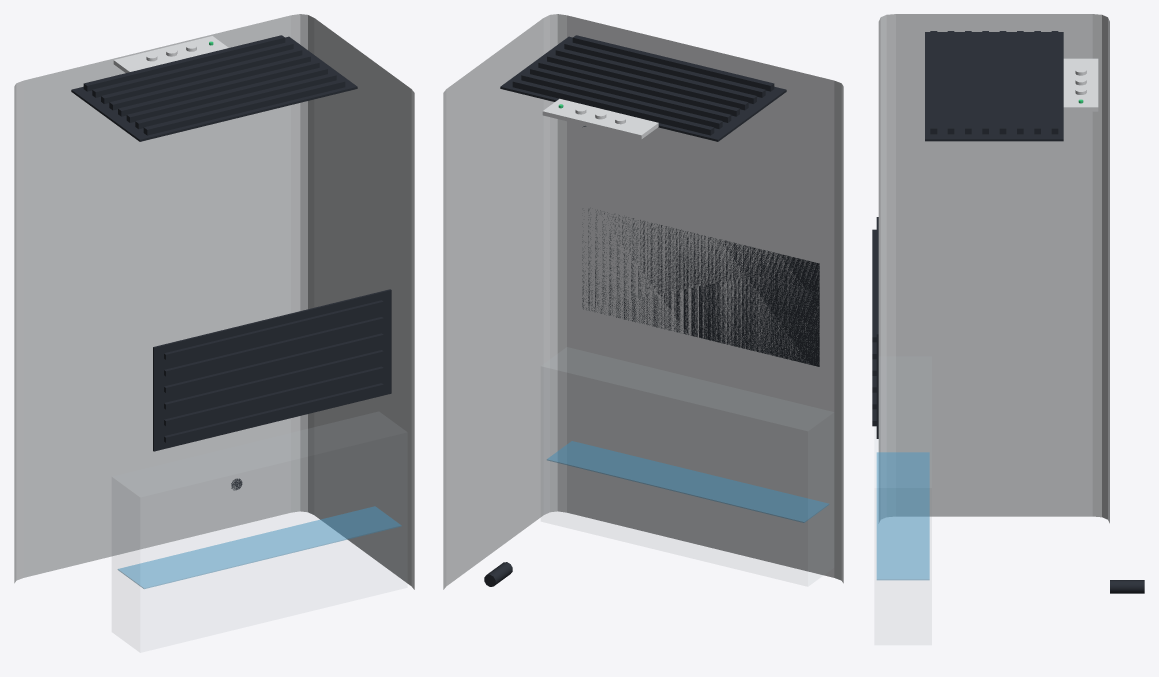
The model's file is dehumidifier-compact-12l.glb.
3 renders of one model, left to right at view 1: azimuth 30°, elevation 25°; view 2: azimuth 150°, elevation 25°; view 3: azimuth 270°, elevation 25°, orthographic.
Visible parts, largest first — view 1: dehum_body, dehum_front_grille, dehum_top_grille, dehum_tank_water, dehum_panel; view 2: dehum_body, dehum_front_grille, dehum_top_grille, dehum_tank_water, dehum_panel; view 3: dehum_body, dehum_top_grille, dehum_tank_water, dehum_panel, dehum_front_grille, dehum_drain.
Boxes of the visible parts, x1,y1,x2,y2 form: dehum_body: (14,14,414,589); dehum_front_grille: (153,289,391,451); dehum_top_grille: (71,35,357,141); dehum_tank_water: (118,506,401,588); dehum_panel: (113,36,228,72); dehum_body: (443,14,843,589); dehum_front_grille: (582,209,819,366); dehum_top_grille: (500,35,786,141); dehum_tank_water: (547,441,828,522); dehum_panel: (542,98,658,139); dehum_body: (878,14,1109,523); dehum_top_grille: (925,31,1063,141); dehum_tank_water: (877,452,929,579); dehum_panel: (1063,58,1098,111); dehum_front_grille: (872,217,878,438); dehum_drain: (1110,580,1144,593).
Size of the model in its own units: 0.3 by 0.487 by 0.2355.
